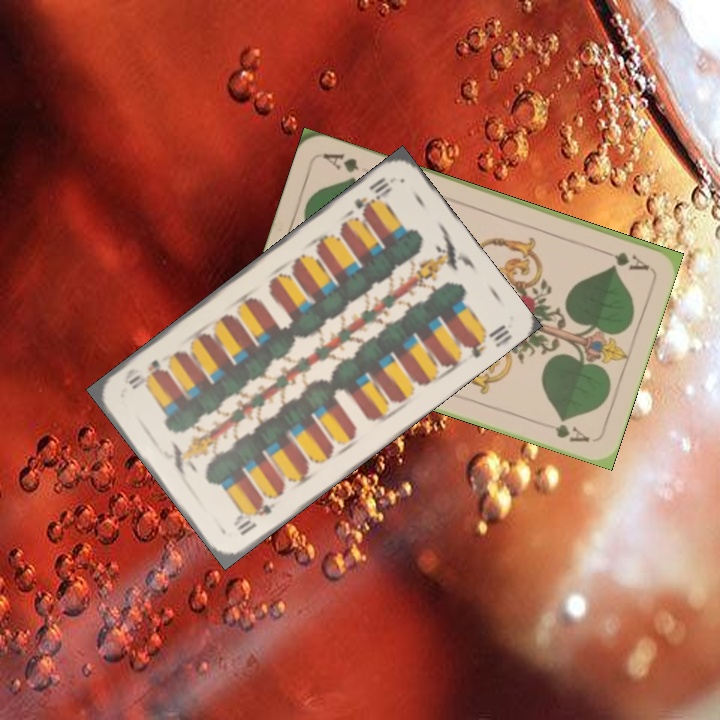E10: (350, 173, 395, 218), (232, 497, 278, 539)
GA: (594, 245, 652, 273)
